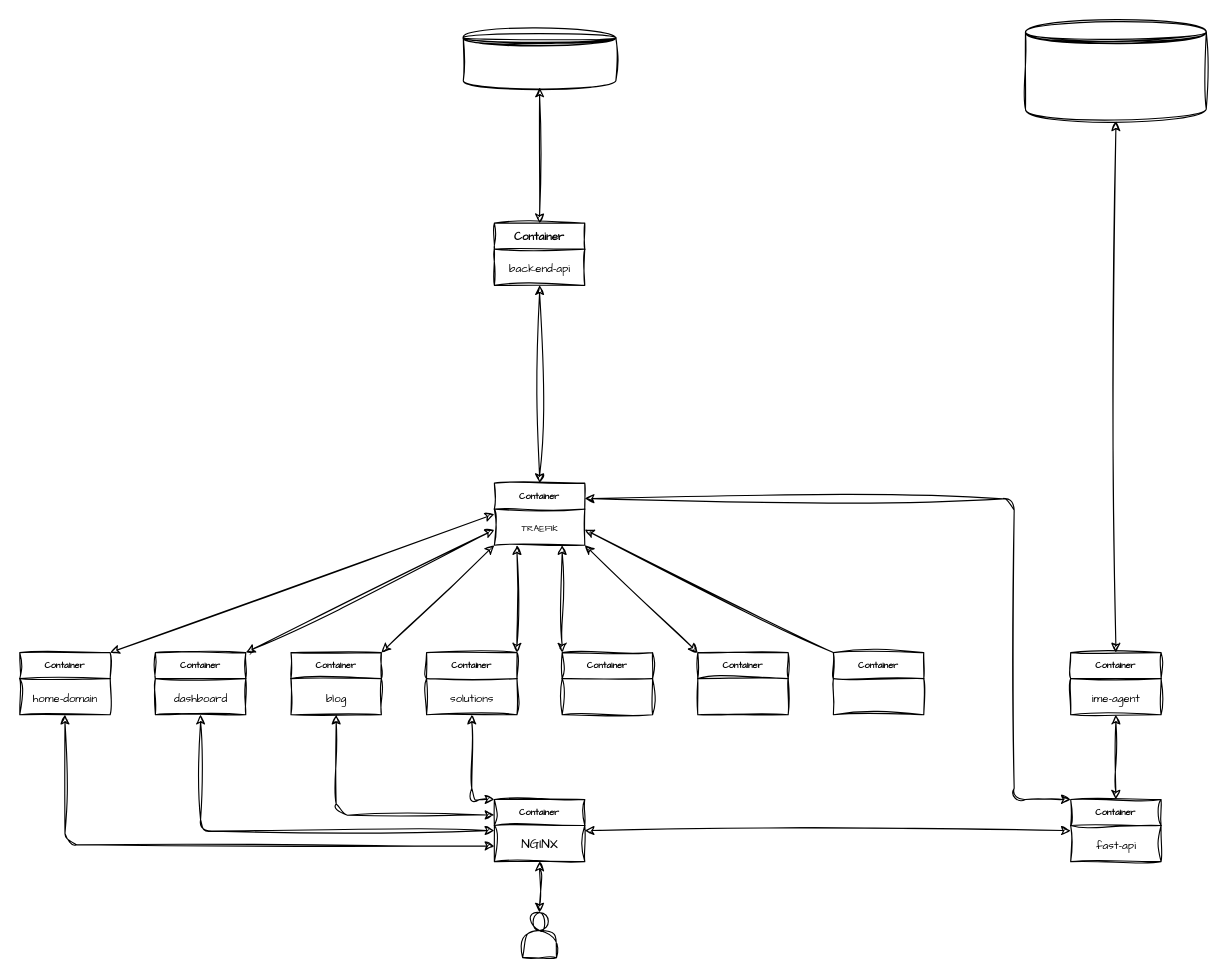
The diagram is 1226 pixels wide and 977 high, and some of its shapes have lost their labels. Each missing label, with the centre of its shape:
"mySQL" goes at pixel 539 59.
"PostgreSQL" goes at pixel 1115 70.
